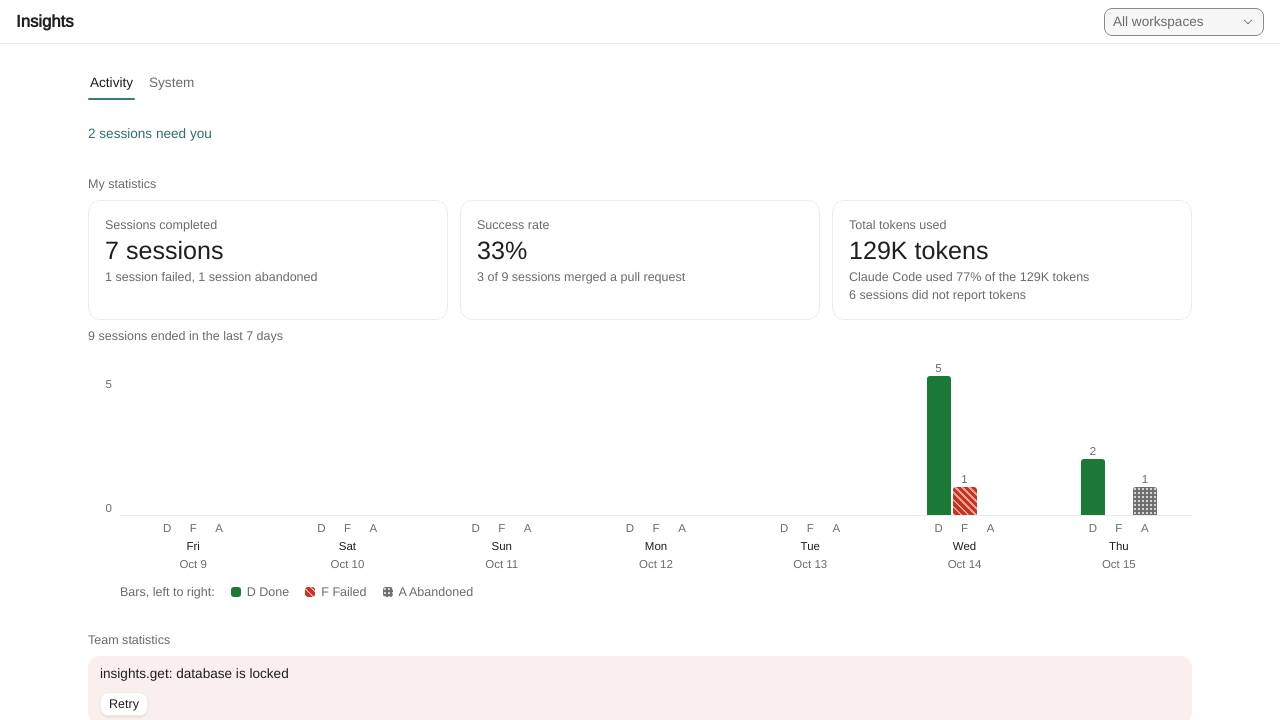
insights page › shows the server error and retries
Step 1. Click the 2nd button named "Retry" → (124,704), box 100,692 -> 148,716
(page scrolled)
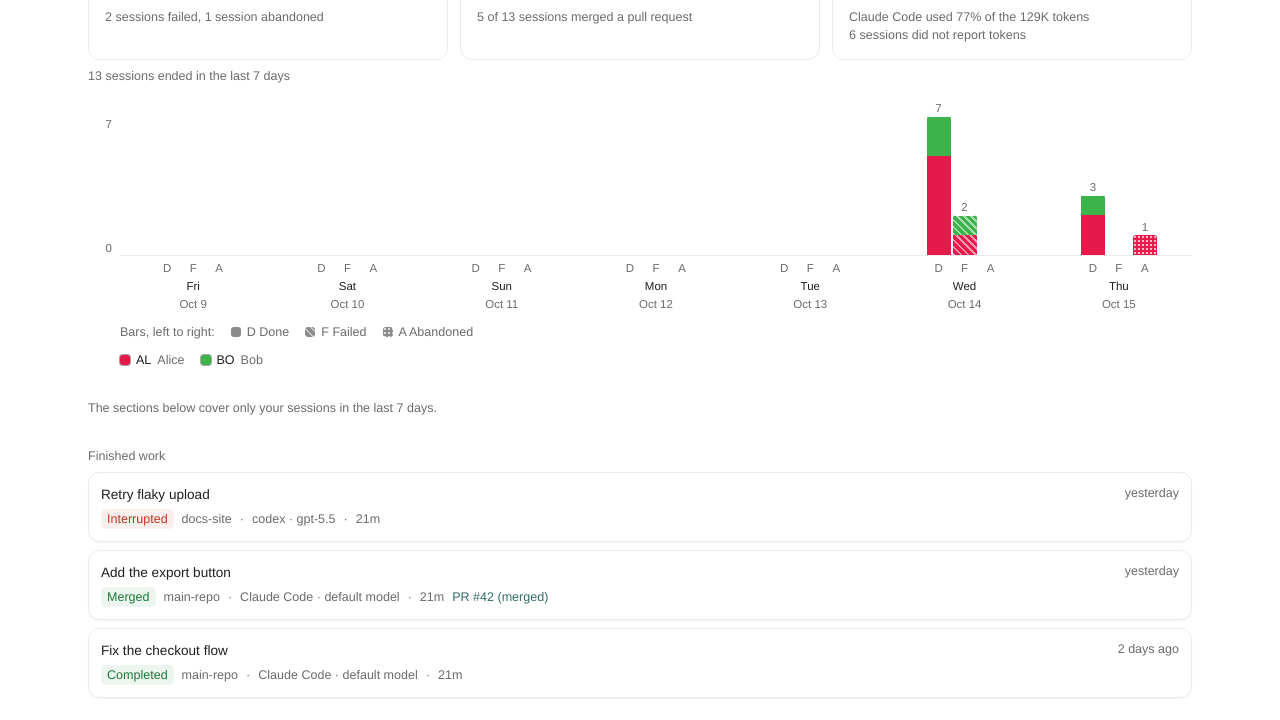
expect the list named "Members" is shown: met, box 120,352 -> 263,368
